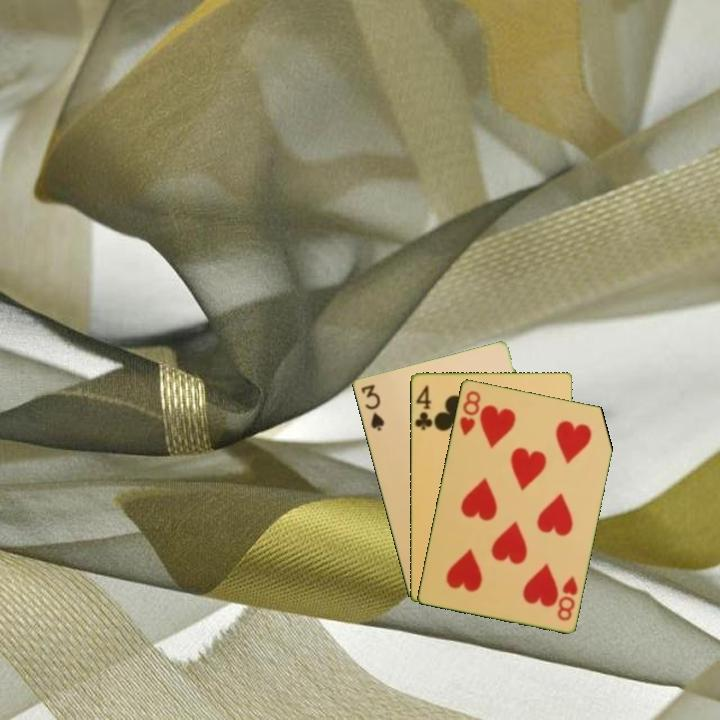3s: (357, 380, 387, 434)
4c: (411, 382, 435, 432)
8h: (456, 387, 483, 438), (553, 573, 580, 623)
